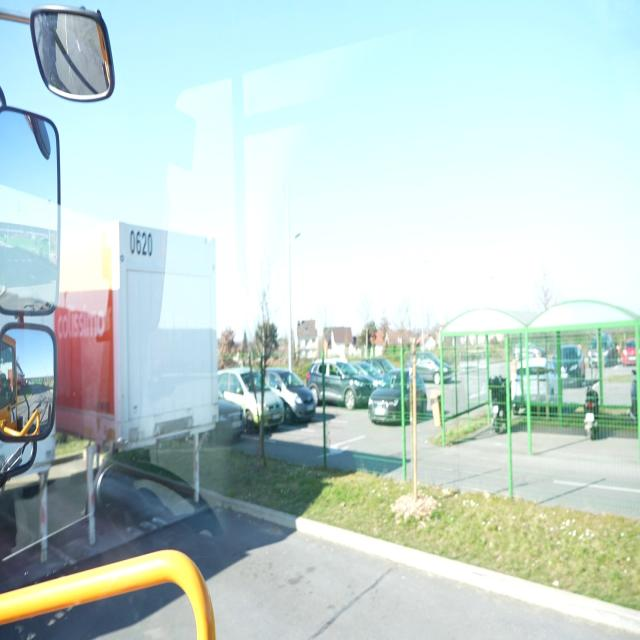Code: (129, 226, 156, 259)
